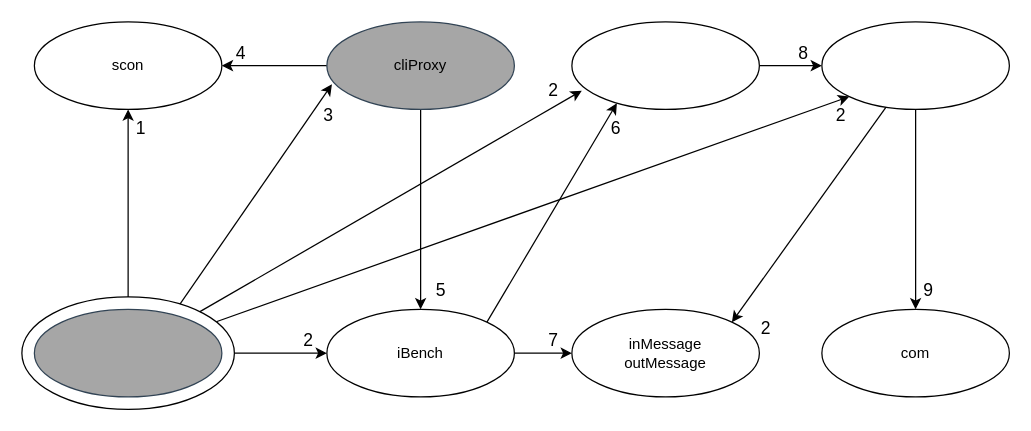
Some shapes in this 1031 by 431 pixel diagram are drawn without their labels. Here are the shapes that lost their labels. From the top down, the centre of each, then its label:
point (665, 65): mBench
point (915, 65): reposStub
point (127, 352): ServerBench
